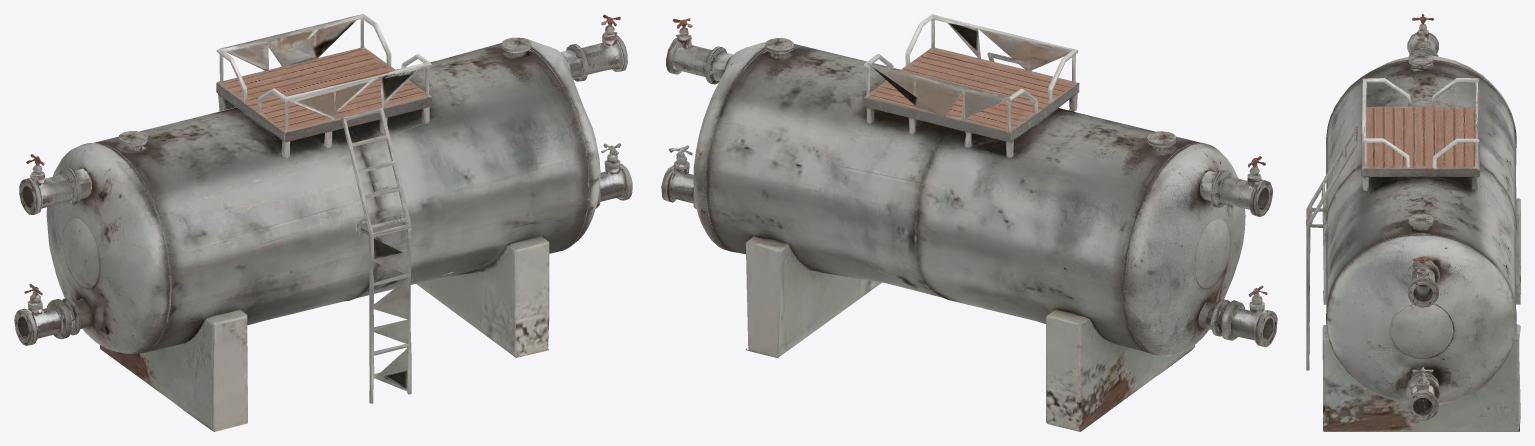
File: tank_horizontal.glb
The picture shows the model from 3 angles, left to right: view 1: azimuth 30°, elevation 25°; view 2: azimuth 150°, elevation 25°; view 3: azimuth 270°, elevation 25°; orthographic projection. The views are drawn at different scales.
Visible parts, largest first — view 1: Mesh_0; view 2: Mesh_0; view 3: Mesh_0.
Part boxes in pixels (box(x1,y1,x2,y2)): Mesh_0: box(14, 14, 632, 431); Mesh_0: box(661, 14, 1277, 431); Mesh_0: box(1306, 14, 1520, 431).
Bounding box in the file's own units: 1.9 × 0.8915 × 0.6849.
1 material, 1 textured.
